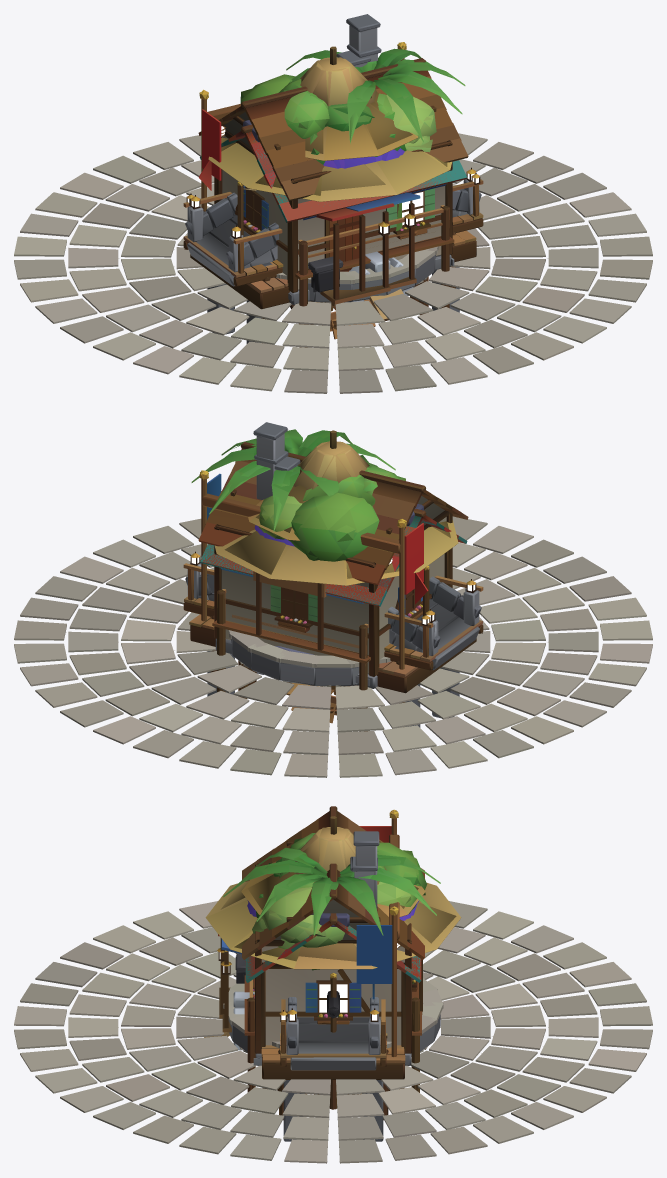
Rendered from props.glb.
3 renders of one model, top to bottom at view 1: azimuth 30°, elevation 25°; view 2: azimuth 150°, elevation 25°; view 3: azimuth 270°, elevation 25°, orthographic.
Visible parts, largest first — view 1: plaza_disc, mill_house, beach_hut, cottage_a, stone_bridge, tourney_stage, beach_hut__lod, tree_round_b, home_plot, bridge_wood, tree_palm, fountain (+6 smaller); view 2: plaza_disc, mill_house, tourney_stage, beach_hut, stone_bridge, tree_round_b, fountain, home_plot, cottage_a, beach_hut__lod, bridge_wood, tree_palm (+4 smaller); view 3: plaza_disc, mill_house, tourney_stage, beach_hut, stone_bridge, cottage_a, beach_hut__lod, tree_palm, tree_willow, tree_palm__lod, fountain, home_plot (+4 smaller).
Part boxes in pixels (x1=…): plaza_disc: x1=14, y1=133, x2=652, y2=393; mill_house: x1=198, y1=14, x2=468, y2=304; beach_hut: x1=208, y1=46, x2=451, y2=321; cottage_a: x1=217, y1=44, x2=466, y2=304; stone_bridge: x1=185, y1=167, x2=481, y2=343; tourney_stage: x1=190, y1=42, x2=476, y2=308; beach_hut__lod: x1=221, y1=49, x2=447, y2=240; tree_round_b: x1=240, y1=74, x2=392, y2=164; home_plot: x1=295, y1=205, x2=454, y2=347; bridge_wood: x1=183, y1=173, x2=483, y2=343; tree_palm: x1=286, y1=48, x2=465, y2=143; fountain: x1=276, y1=246, x2=438, y2=301; plaza_disc: x1=14, y1=516, x2=652, y2=777; mill_house: x1=198, y1=422, x2=468, y2=688; tourney_stage: x1=189, y1=470, x2=476, y2=692; beach_hut: x1=215, y1=430, x2=458, y2=648; stone_bridge: x1=185, y1=551, x2=481, y2=727; tree_round_b: x1=288, y1=463, x2=399, y2=561; fountain: x1=228, y1=630, x2=390, y2=685; home_plot: x1=212, y1=571, x2=370, y2=731; cottage_a: x1=200, y1=451, x2=465, y2=686; beach_hut__lod: x1=219, y1=441, x2=450, y2=636; bridge_wood: x1=183, y1=563, x2=483, y2=703; tree_palm: x1=191, y1=431, x2=395, y2=531; plaza_disc: x1=14, y1=901, x2=652, y2=1163; mill_house: x1=242, y1=806, x2=424, y2=1065; tourney_stage: x1=261, y1=809, x2=405, y2=1079; beach_hut: x1=204, y1=816, x2=461, y2=1037; stone_bridge: x1=283, y1=997, x2=383, y2=1141; cottage_a: x1=217, y1=856, x2=421, y2=1065; beach_hut__lod: x1=220, y1=817, x2=456, y2=961; tree_palm: x1=223, y1=851, x2=440, y2=937; tree_willow: x1=253, y1=879, x2=416, y2=984; tree_palm__lod: x1=238, y1=847, x2=430, y2=914; fountain: x1=223, y1=978, x2=443, y2=1056; home_plot: x1=244, y1=959, x2=422, y2=1109.
Size of the model in its own units: 17.9 by 8.84 by 17.9.
